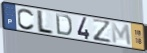4: (76, 17, 91, 41)
C: (17, 8, 36, 32)
D: (55, 13, 74, 37)
L: (37, 10, 55, 36)
M: (110, 22, 133, 48)
Z: (91, 18, 113, 44)
